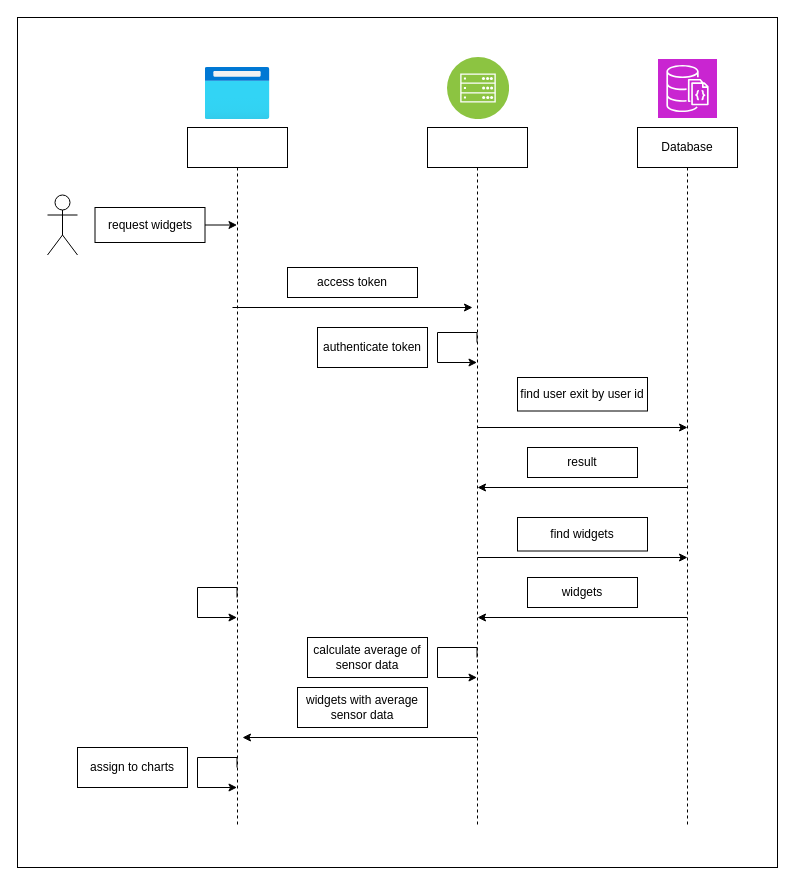
This 795x885 diagram has some shape labels left out. The box of each missing label's shape, as (x1, y1, x2, y2) in pixels:
Backend: (426, 126, 528, 828)
Frontend: (186, 126, 288, 828)
User: (46, 194, 78, 255)
